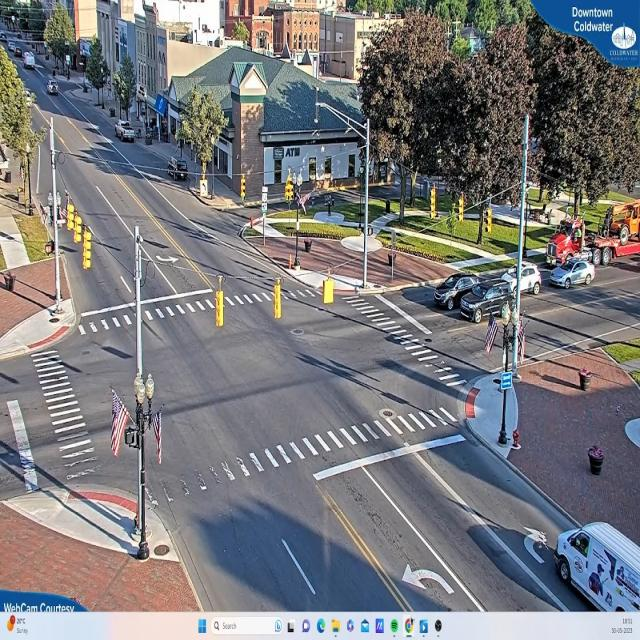car: (555, 522, 640, 612), (463, 276, 516, 336), (432, 275, 486, 308), (548, 257, 597, 289), (500, 264, 542, 298), (118, 120, 138, 142), (49, 81, 60, 95)
